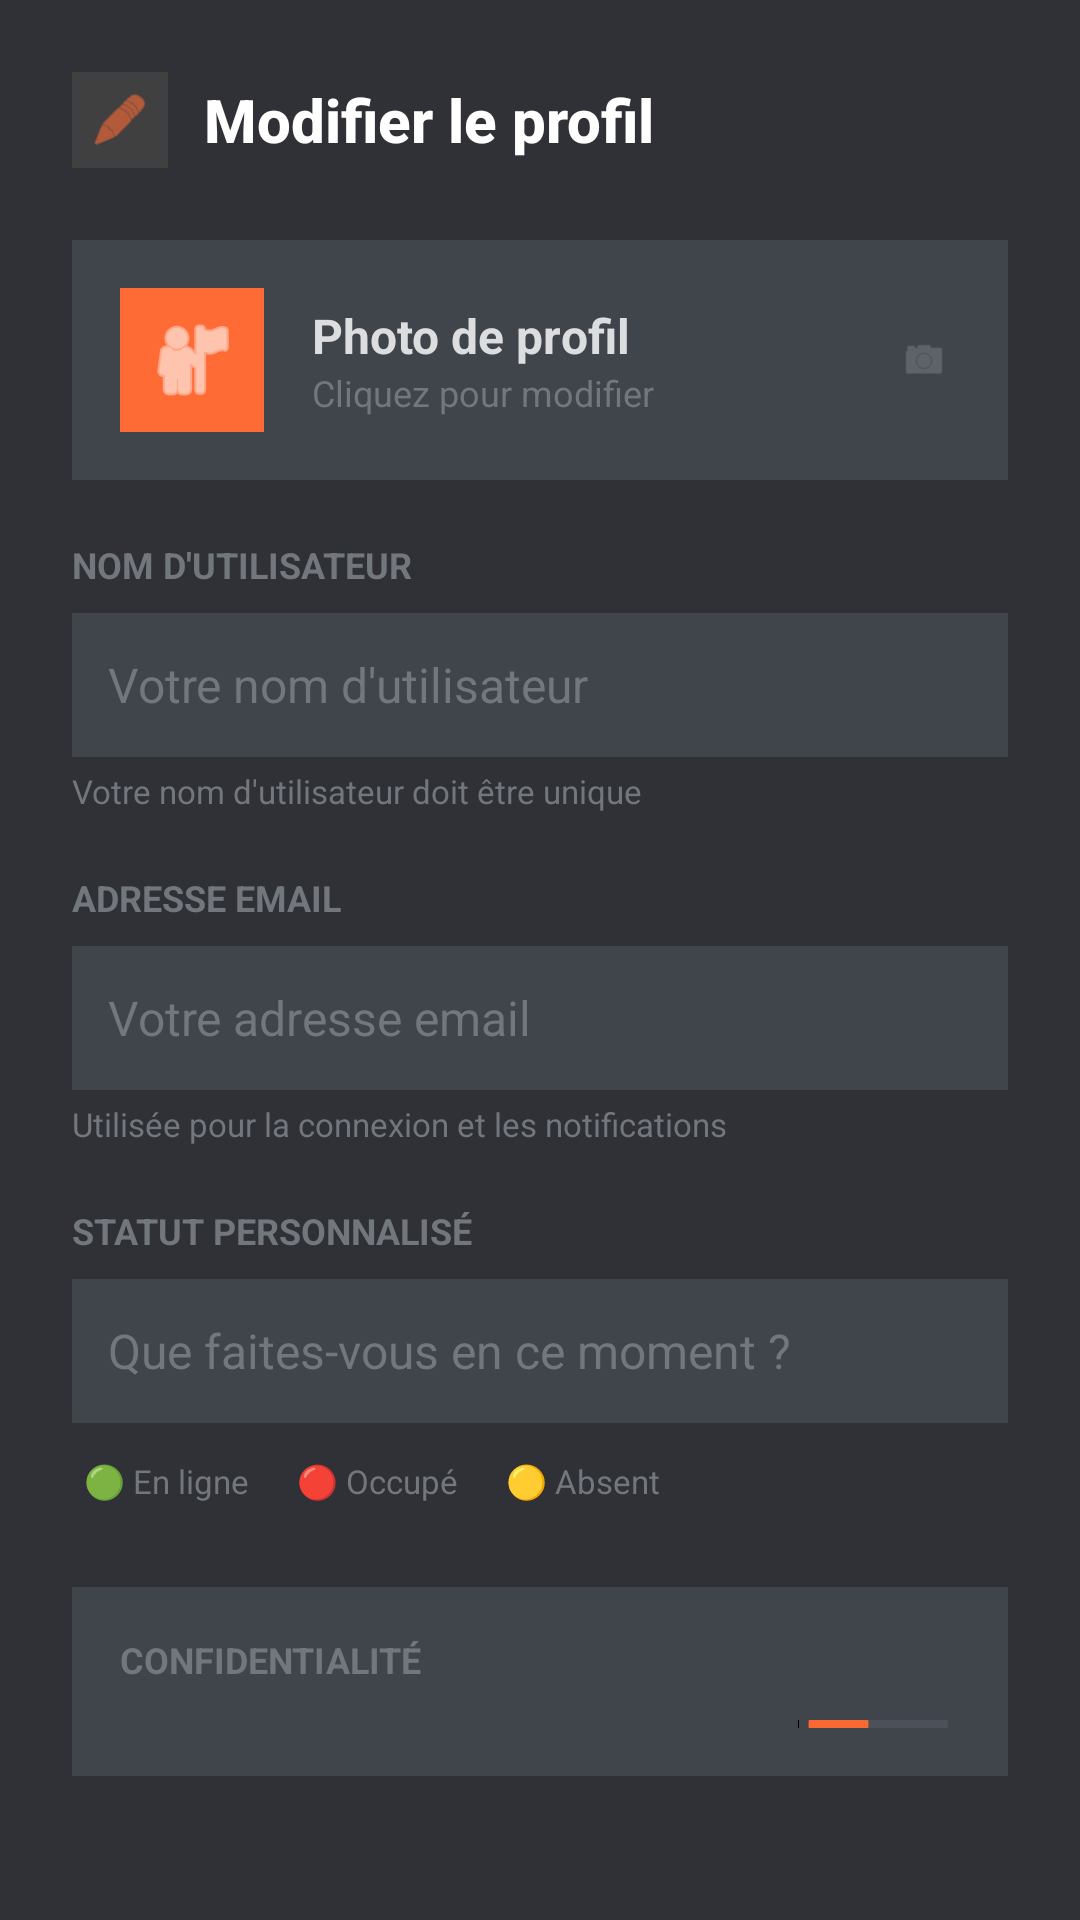

Icons on this 1080×1920 Android screen, each with the point to tap as point (x, y):
camera: point (924, 359)
edit: point (120, 120)
